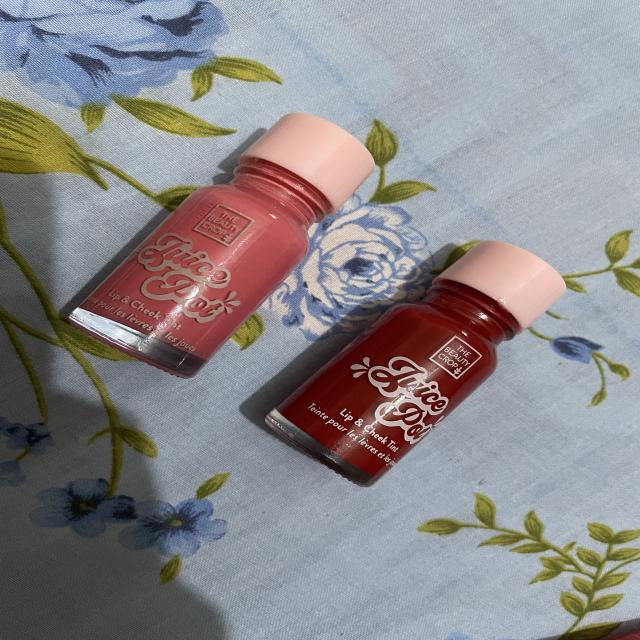Tint: (229, 218, 583, 493), (47, 94, 384, 379)
